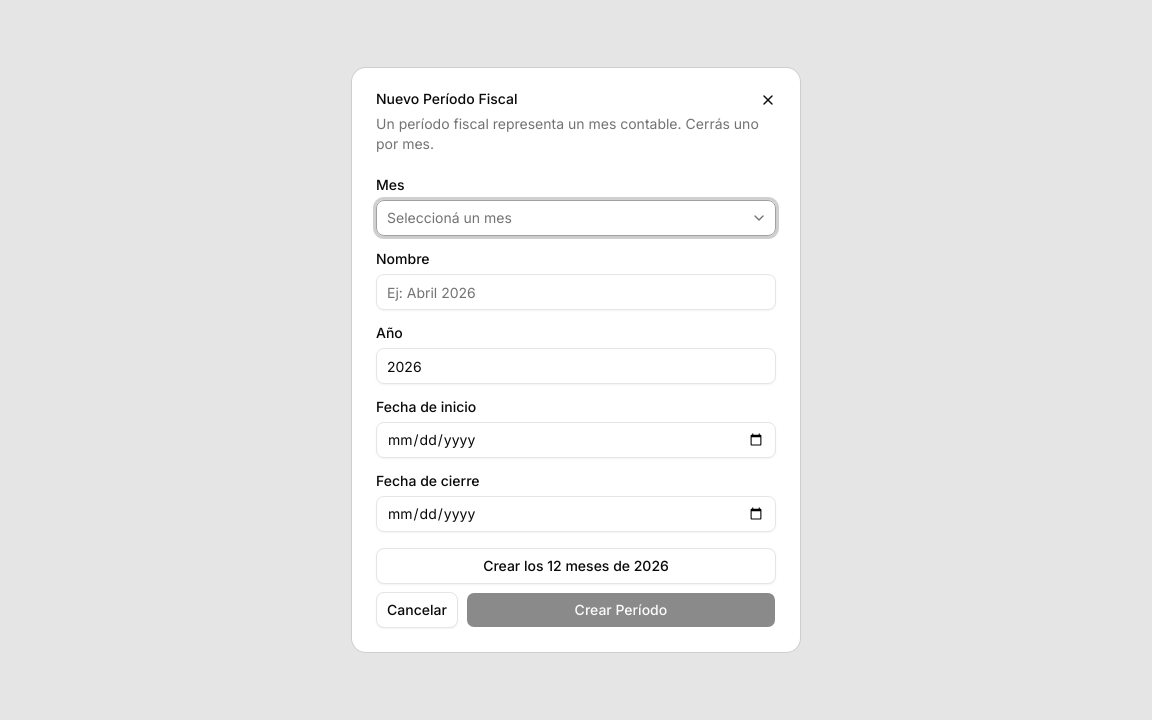
Test case: UX-T02 — Selección de mes autocompleta fechas (REQ-2) › seleccionar Febrero con year=2024 (bisiesto) autocompleta endDate='2024-02-29'
The image size is (1152, 720).
Replace the text in the number field labelled "Año" with "2024" at {"x": 576, "y": 366}, box [376,348,776,384]
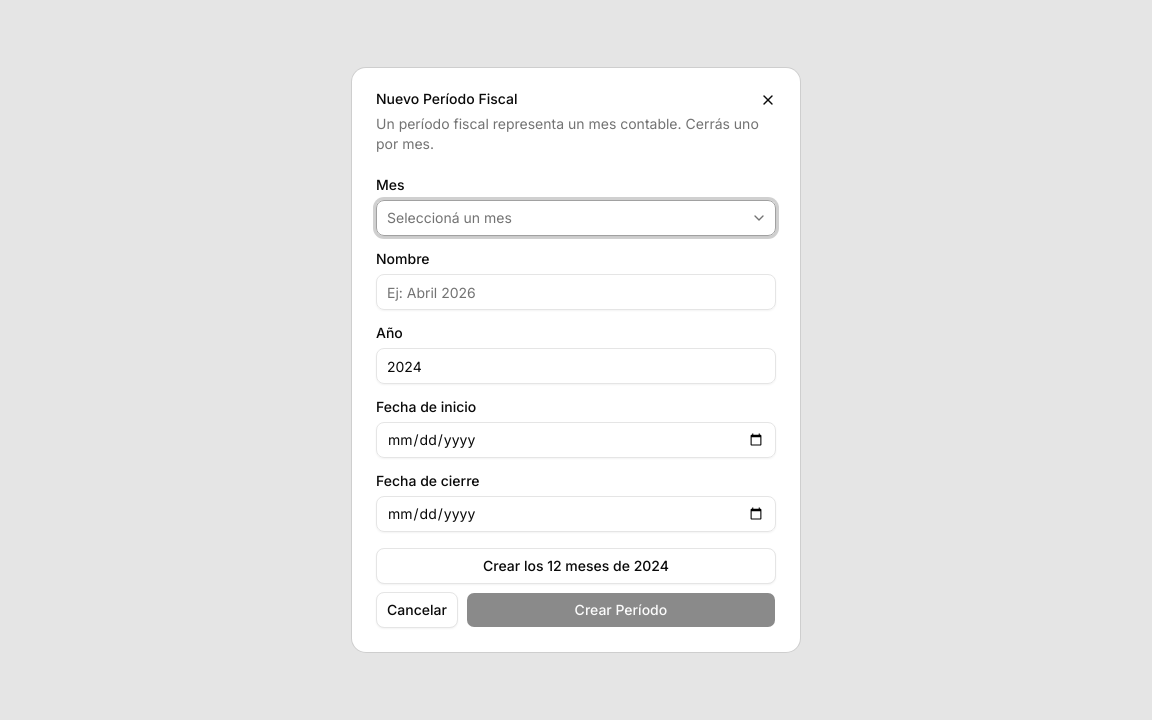
Click the dropdown at {"x": 449, "y": 218}, box [376,200,776,236]
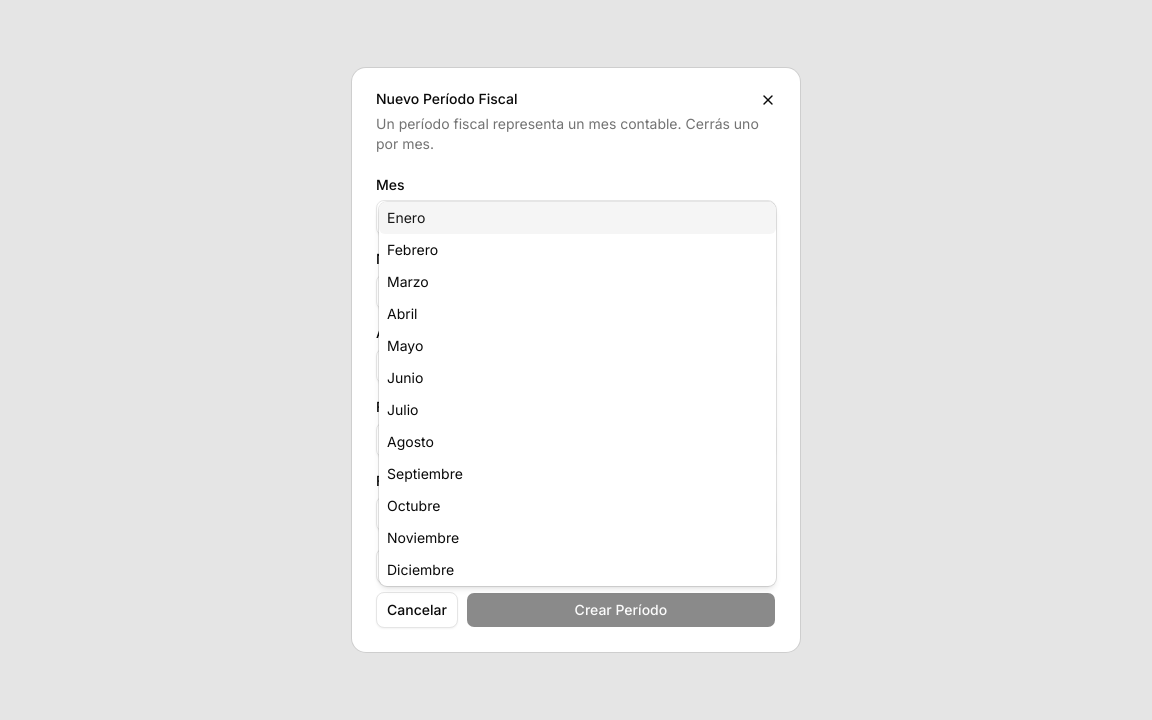
Click the option "Febrero" at {"x": 413, "y": 250}, box [387,241,438,258]
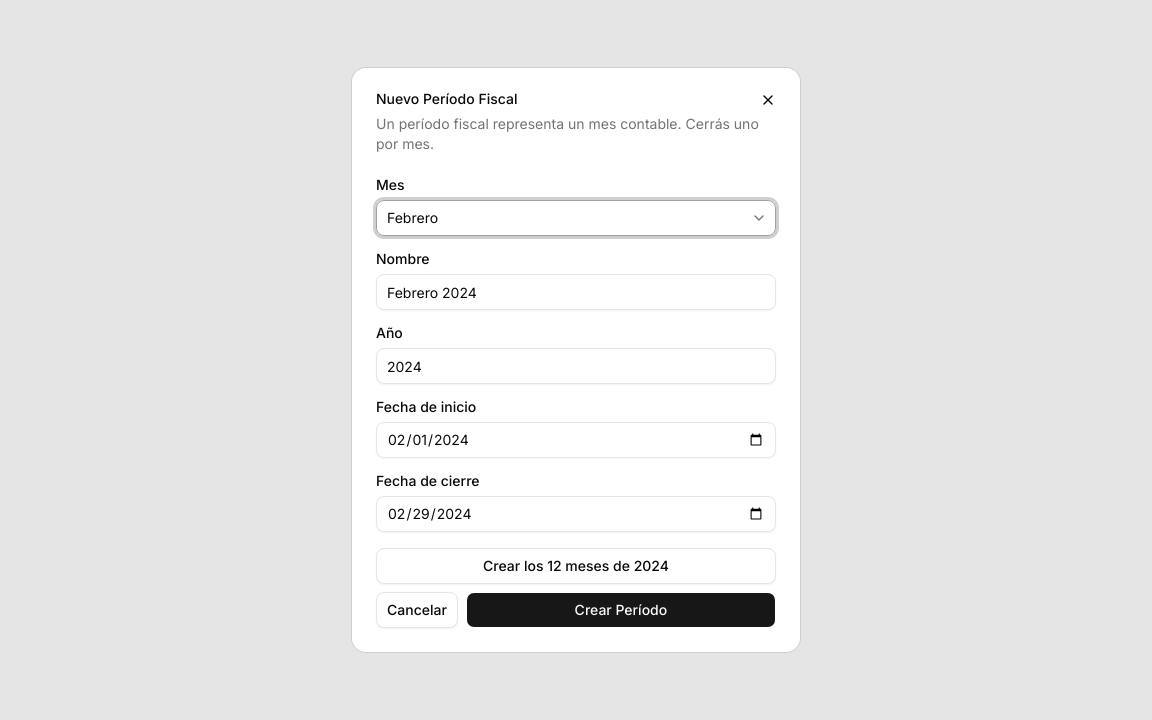
Expected: the date field labelled "Fecha de cierre" holds "2024-02-29", [376,496,776,532]
